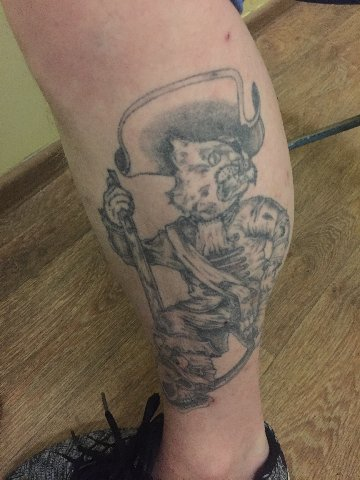tatu8_kot: (93, 67, 296, 412)
